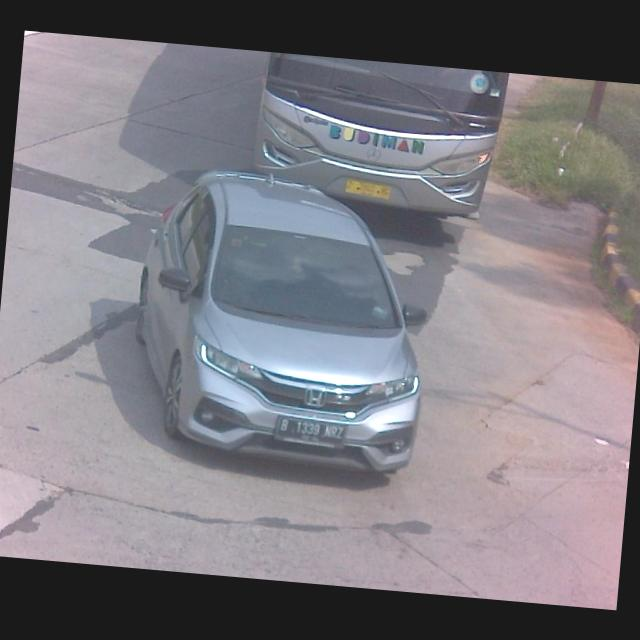plate: (274, 413, 344, 448)
